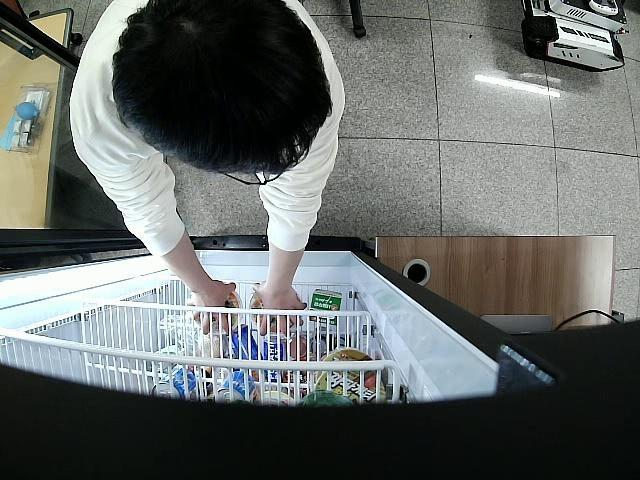09_yukGaeJang: (194, 292, 243, 333), (250, 290, 294, 334)
